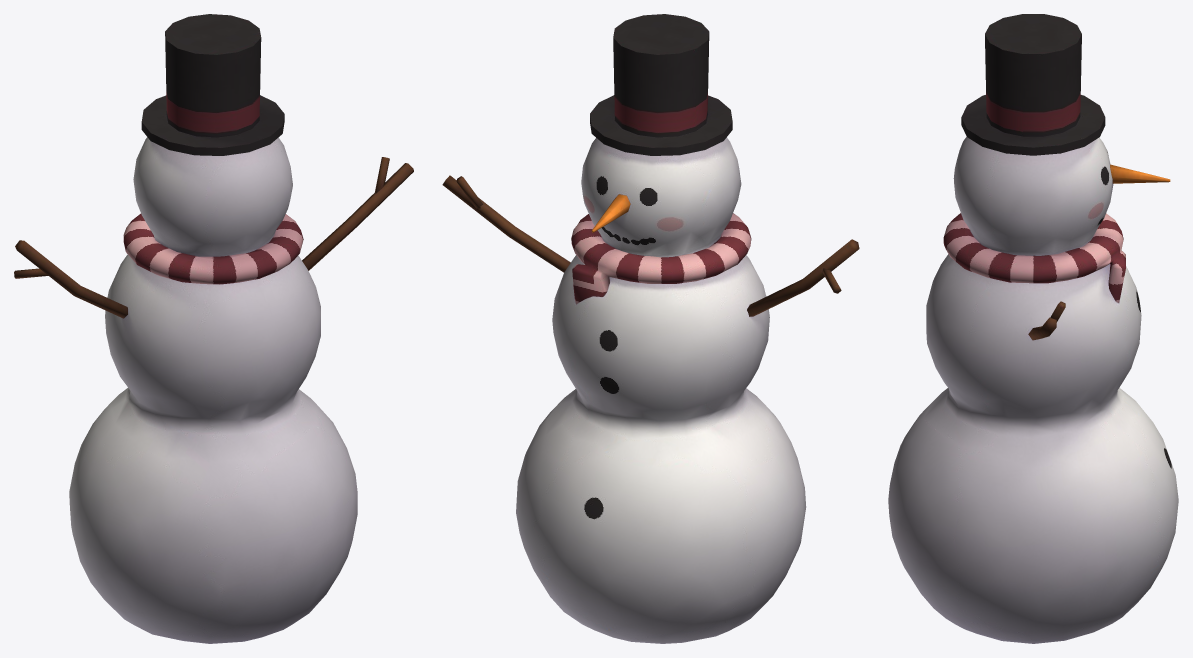
Rendered from snowman.glb.
3 views of the same model, side by side, from view 1: azimuth 30°, elevation 25°; view 2: azimuth 150°, elevation 25°; view 3: azimuth 270°, elevation 25° (orthographic).
Parts seen in each view (by area): view 1: Body, Hat, Scarf, Arms; view 2: Body, Hat, Scarf, Arms, Nose; view 3: Body, Hat, Scarf, Nose, Arms.
Part boxes in pixels (x1,y1,x2,y2): Body: (69,137,357,643); Hat: (141,14,284,155); Scarf: (123,213,303,284); Arms: (14,157,413,318); Body: (516,137,806,643); Hat: (590,14,732,155); Scarf: (571,213,751,304); Arms: (442,175,859,316); Nose: (591,194,630,232); Body: (888,136,1178,643); Hat: (961,14,1105,155); Scarf: (943,213,1125,302); Nose: (1110,164,1170,183); Arms: (1028,301,1065,340).
Bounding box in the file's own units: 1.3 × 1.78 × 0.8071.
Materials: 1 (1 with a texture image).
